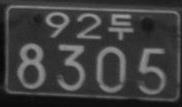0: (95, 45, 127, 94)
2: (76, 12, 102, 40)
3: (54, 43, 86, 92)
5: (136, 46, 167, 96)
8: (17, 42, 47, 90)
9: (45, 11, 70, 38)
두: (107, 13, 134, 40)
